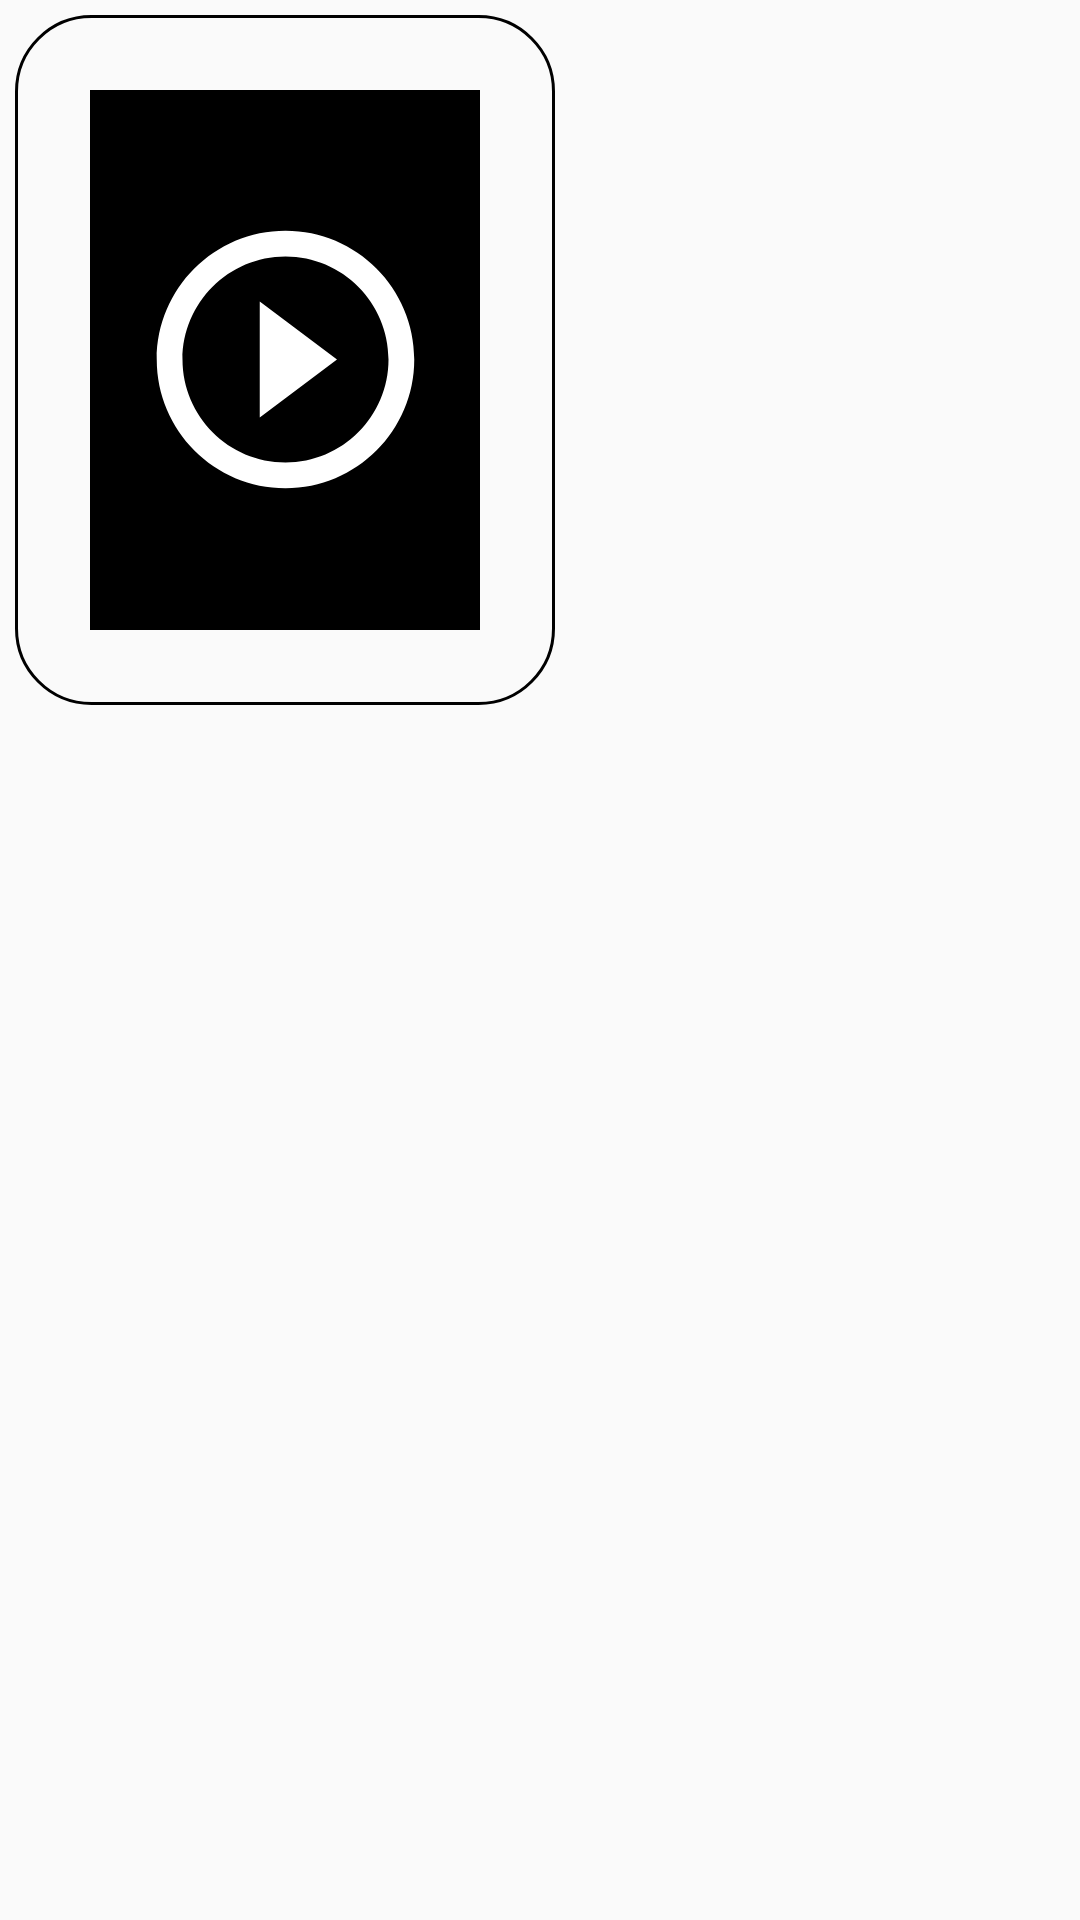

Named icons in this screenshot (1080 x 1920) and their centers, (x,y):
play: (285,359)
